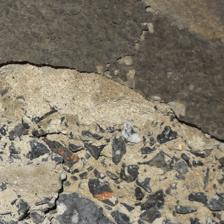Crack: (2, 30, 222, 113)
